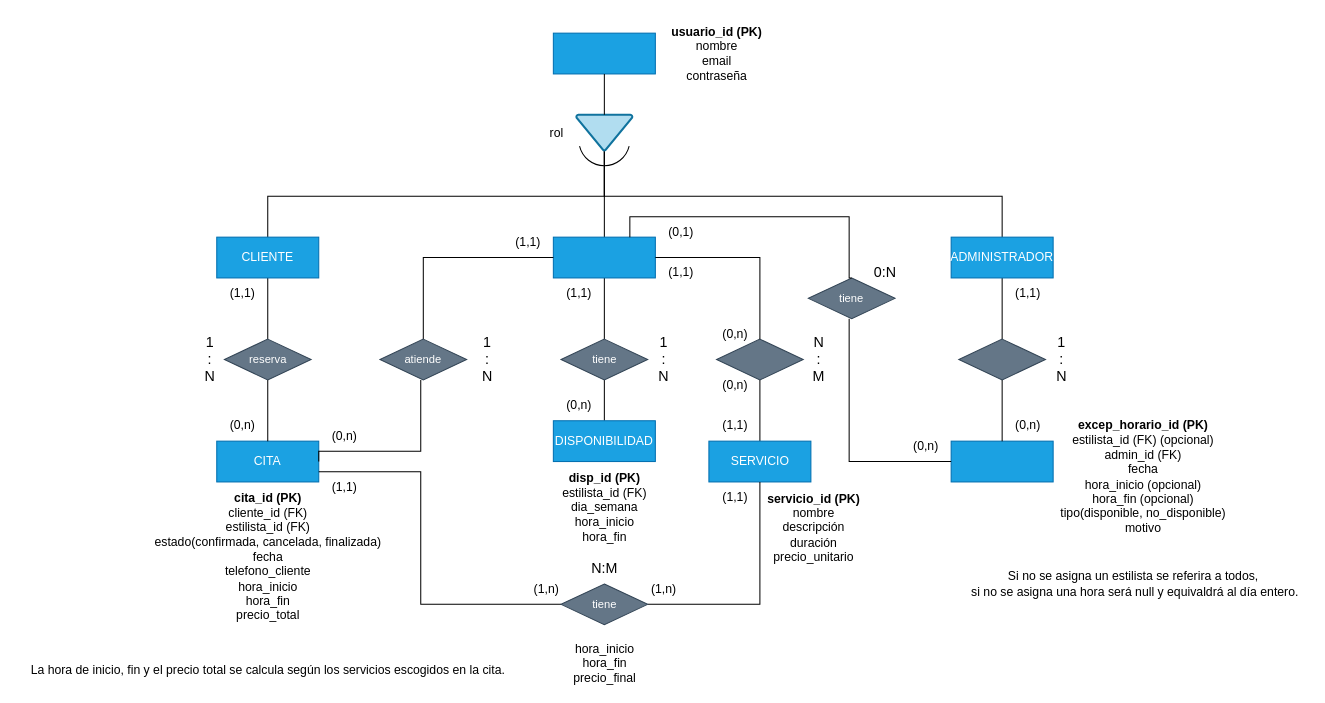
Image size: 1325x703. Some labels were removed from this diagram. Here are the shapes that lost their labels. From the top down, the centre of each, then its label:
At pixel 603 53: "USUARIO".
At pixel 603 257: "ESTILISTA".
At pixel 759 359: "ofrece".
At pixel 1002 359: "designa".
At pixel 1001 461: "EXCEPCION HORARIO".
